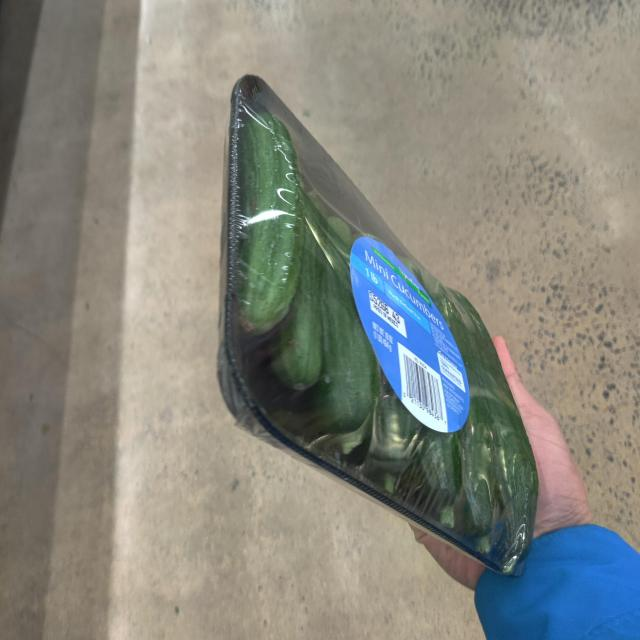Cucumber: (229, 68, 540, 572)
